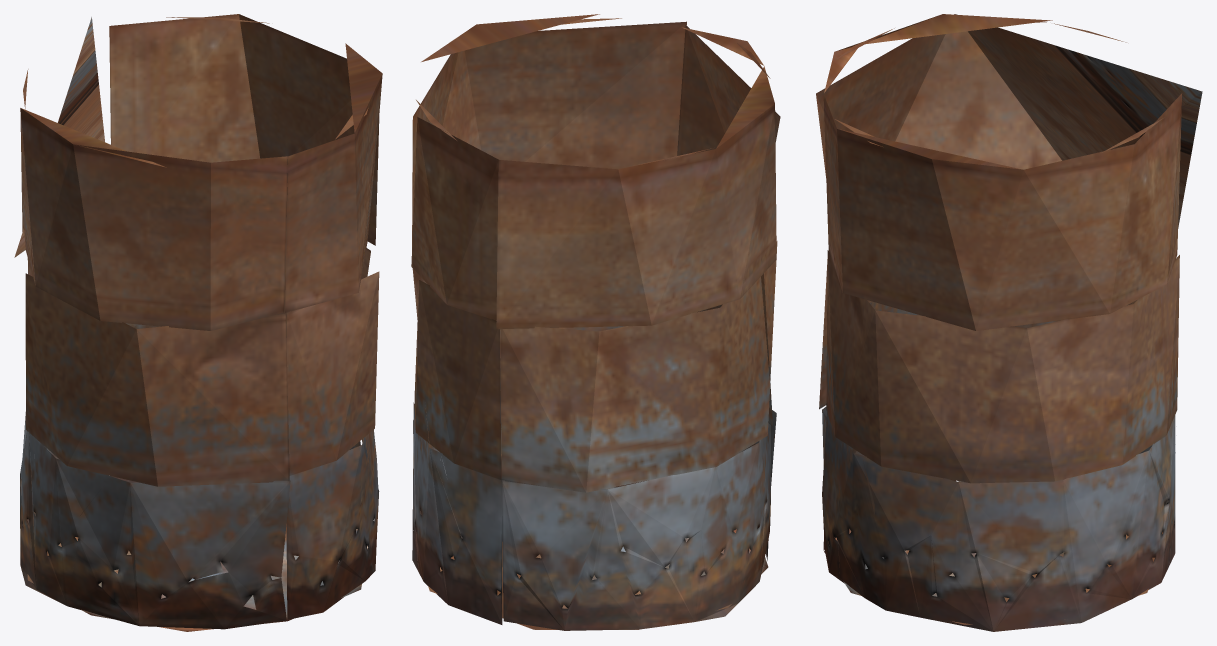
File: prop_stove.glb
The picture shows the model from 3 angles, left to right: view 1: azimuth 30°, elevation 25°; view 2: azimuth 150°, elevation 25°; view 3: azimuth 270°, elevation 25°; orthographic projection.
Parts seen in each view (by area): view 1: hull; view 2: hull; view 3: hull.
Boxes of the visible parts, box(x1,y1,x2,y2) form: hull: box(14, 14, 382, 631); hull: box(411, 14, 780, 630); hull: box(816, 14, 1202, 631).
Bounding box in the file's own units: 1.89 × 2.65 × 2.
1 material, 1 textured.
